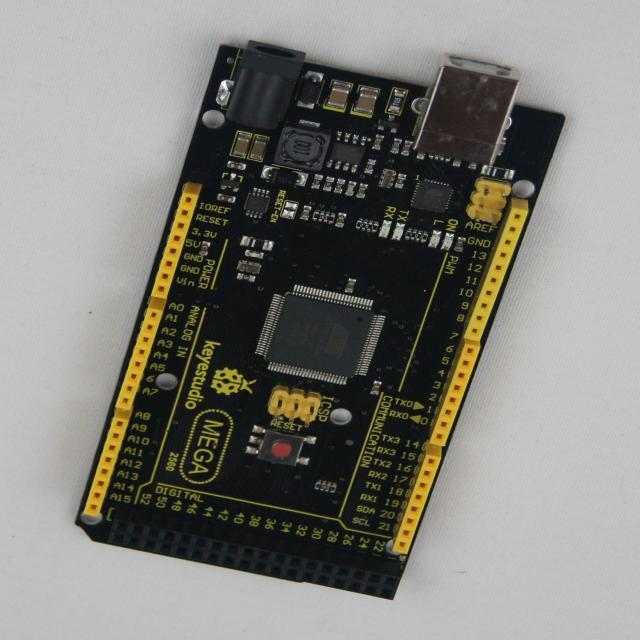Arduino Mega 2560 -Yellow-: (77, 42, 564, 599)
